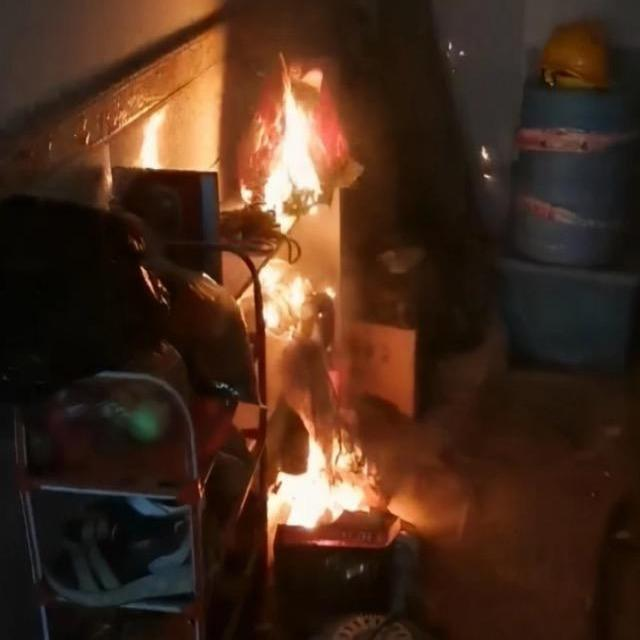smoke: (254, 431, 389, 536), (257, 69, 335, 220), (248, 252, 338, 340), (134, 102, 170, 170)
